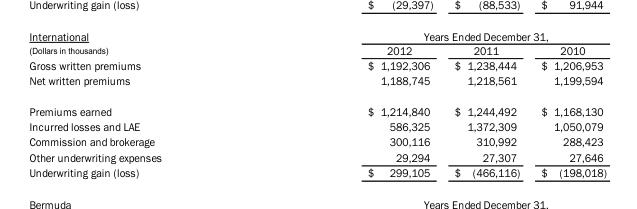table: (28, 29, 605, 178)
table column: (28, 29, 263, 178), (263, 29, 441, 178), (441, 29, 529, 178), (529, 29, 605, 178)
table column header: (28, 29, 605, 57)
table row: (28, 72, 605, 95), (28, 95, 605, 118), (28, 148, 605, 164), (28, 57, 605, 72), (28, 118, 605, 133), (28, 133, 605, 148), (28, 29, 605, 43), (28, 43, 605, 57), (28, 164, 605, 178)
table spanning cell: (28, 29, 263, 57), (263, 29, 605, 43)
